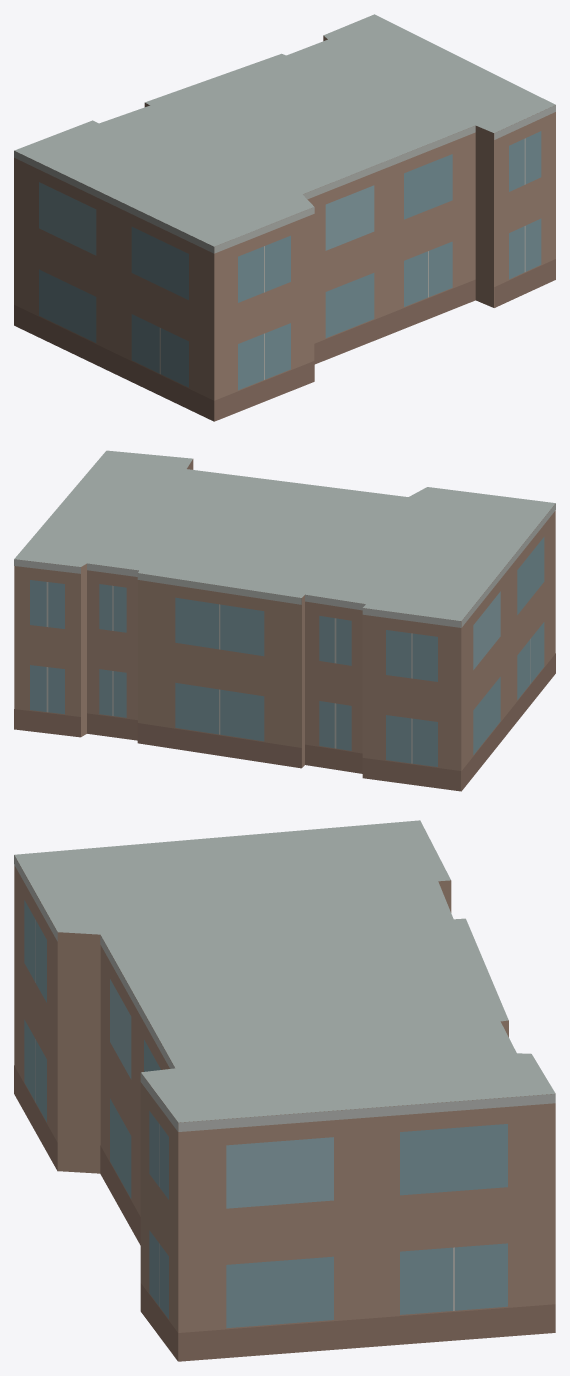
The model's file is survey-upis-32882358.glb.
3 renders of one model, top to bottom at view 1: azimuth 30°, elevation 25°; view 2: azimuth 150°, elevation 25°; view 3: azimuth 270°, elevation 25°, orthographic. The views are drawn at different scales.
Parts seen in each view (by area): view 1: survey-upis-32882358.tmp; view 2: survey-upis-32882358.tmp; view 3: survey-upis-32882358.tmp.
Boxes of the visible parts, box(x1,y1,x2,y2) form: survey-upis-32882358.tmp: box(14, 14, 555, 421); survey-upis-32882358.tmp: box(14, 450, 555, 791); survey-upis-32882358.tmp: box(14, 820, 555, 1361).
Size of the model in its own units: 16.55 by 6.1 by 12.54.
